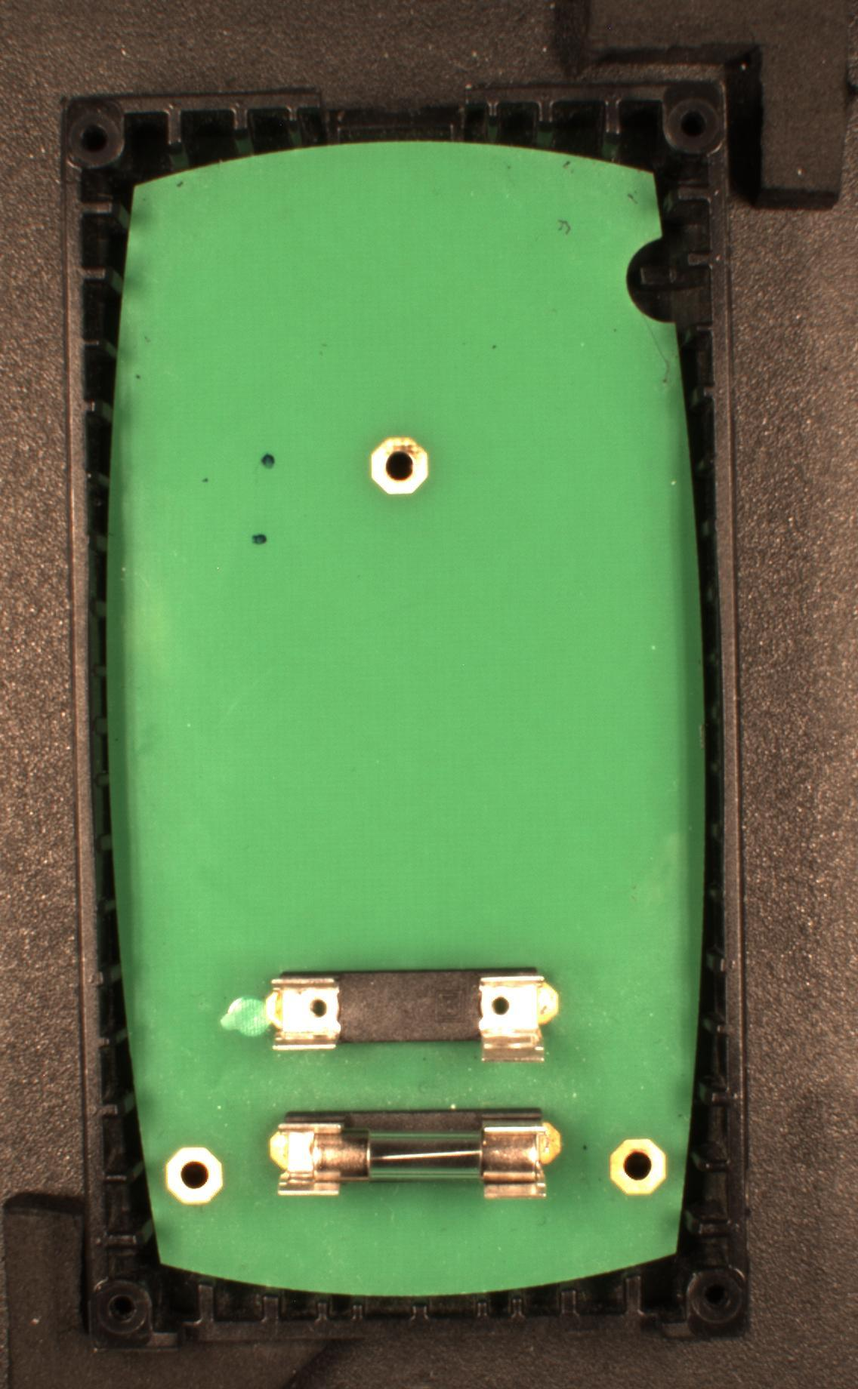Nepostojanje osiguraca: (263, 965, 561, 1066)
Tockasto Ostecenje: (258, 451, 279, 473), (251, 530, 268, 550)
